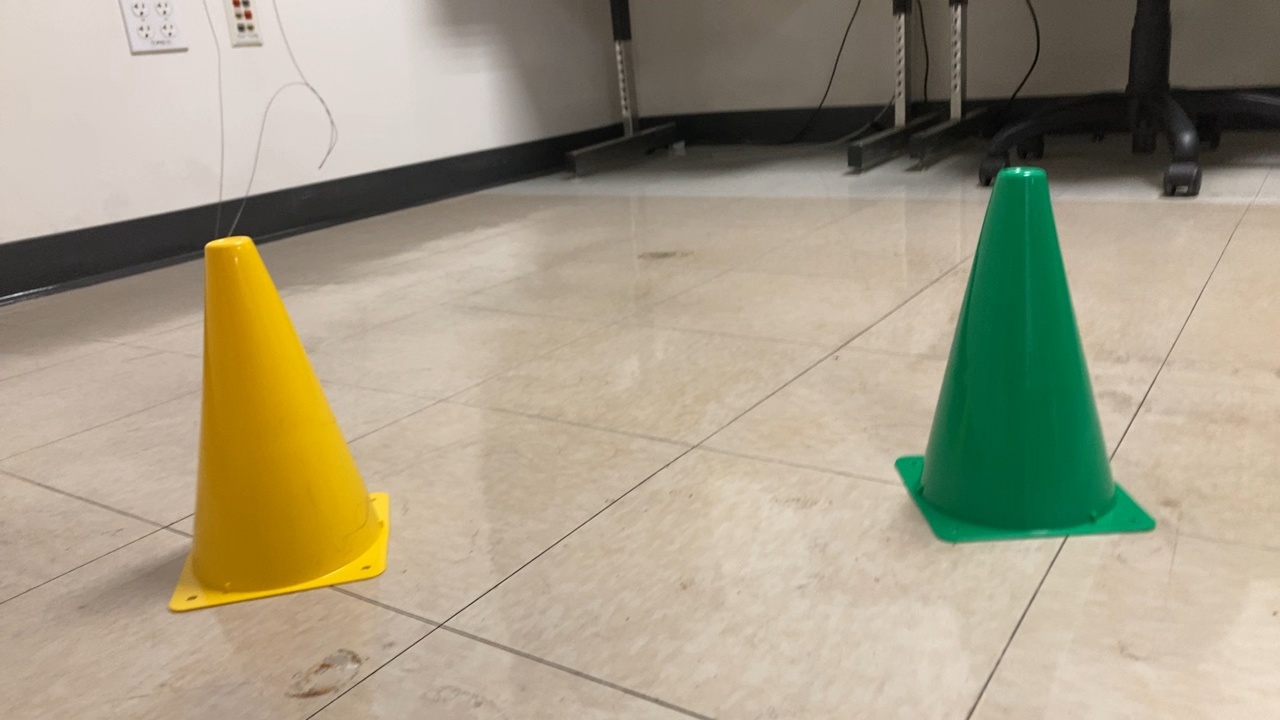green_cone: (879, 158, 1169, 548)
yellow_cone: (167, 231, 396, 613)
